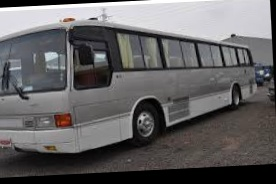bus: (0, 12, 255, 157)
